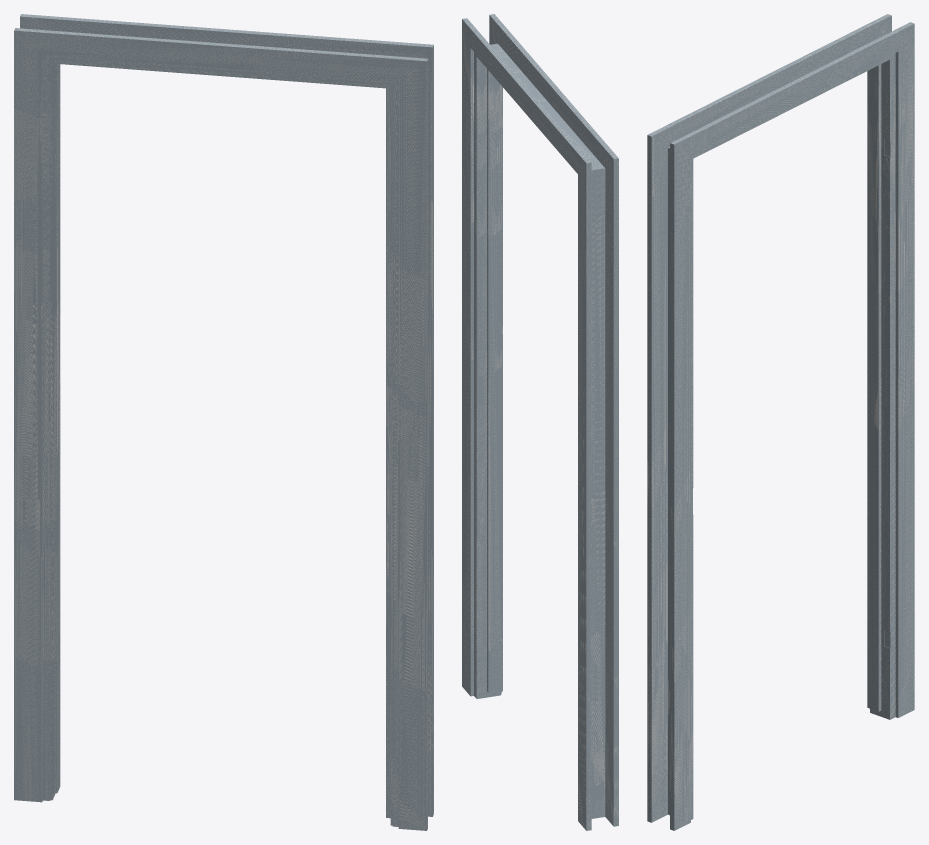
File: doorout.obj
3 renders of one model, left to right at view 1: azimuth 30°, elevation 25°; view 2: azimuth 150°, elevation 25°; view 3: azimuth 270°, elevation 25°, orthographic. The views are drawn at different scales.
Visible parts, largest first — view 1: group_6.004_ID272; view 2: group_6.004_ID272; view 3: group_6.004_ID272.
Boxes of the visible parts, box(x1,y1,x2,y2) form: group_6.004_ID272: box(14, 14, 433, 830); group_6.004_ID272: box(462, 14, 618, 830); group_6.004_ID272: box(647, 14, 914, 830).
Bounding box in the file's own units: 0.1954 × 0.4785 × 0.169.
